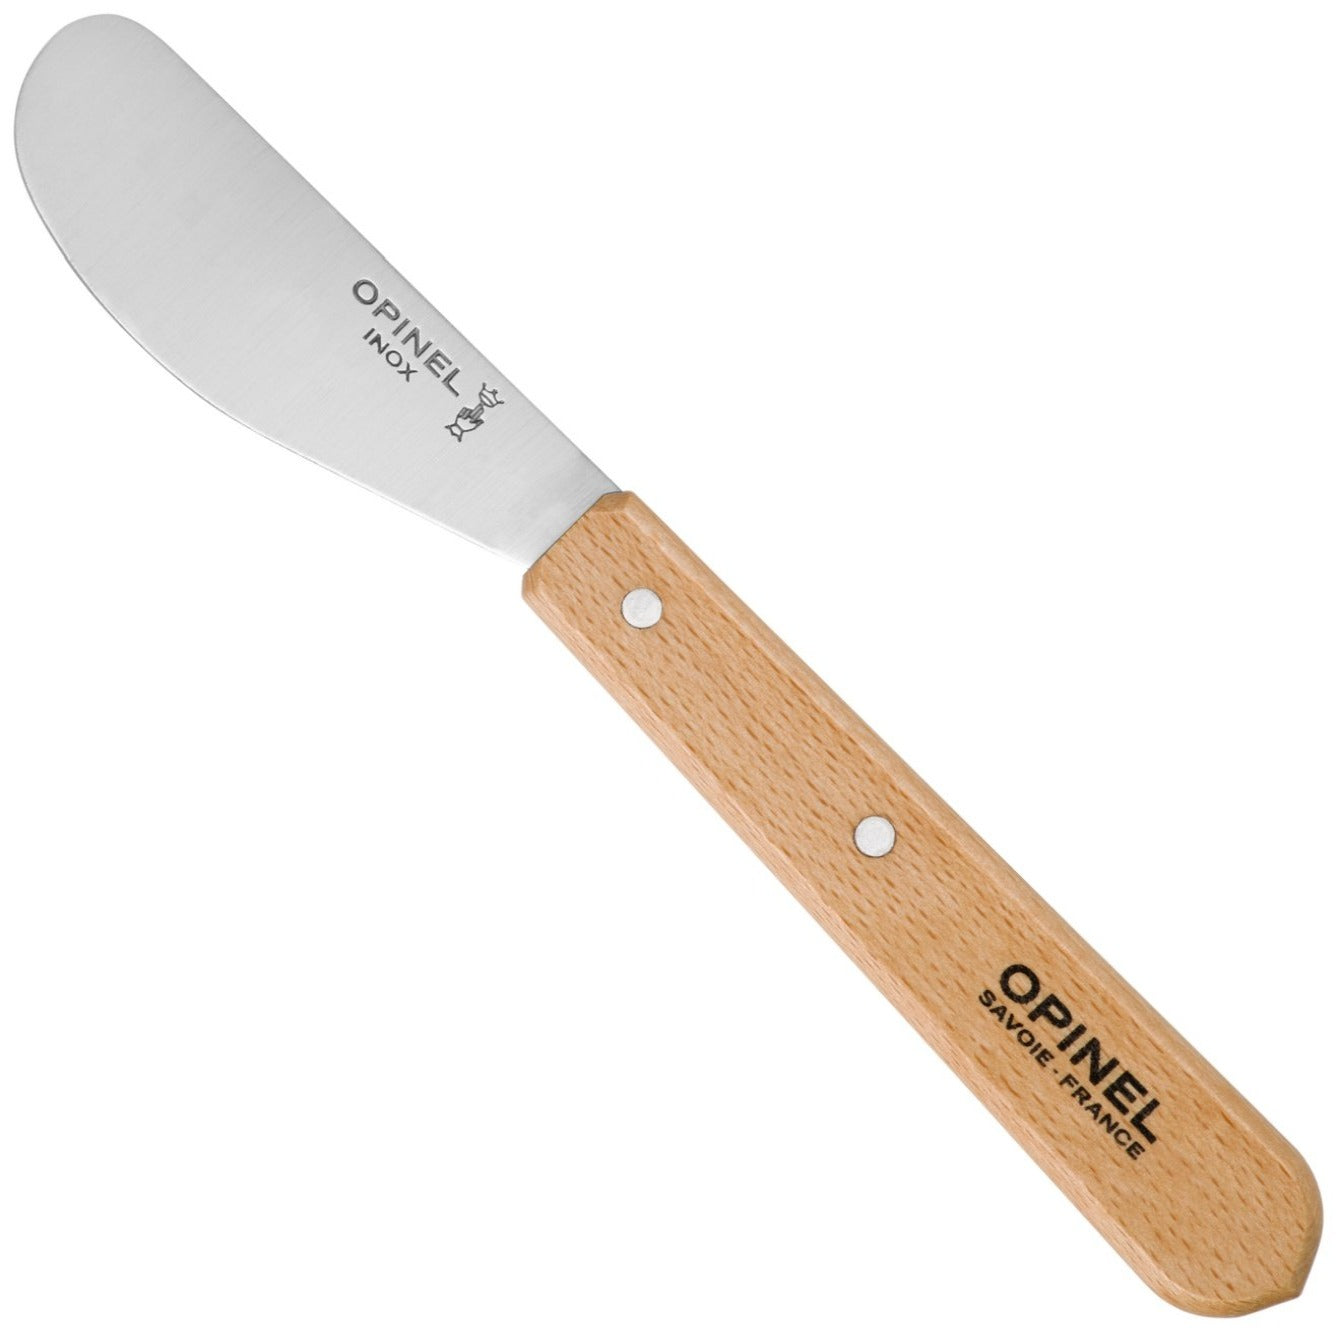knife: (18, 13, 1291, 1302)
